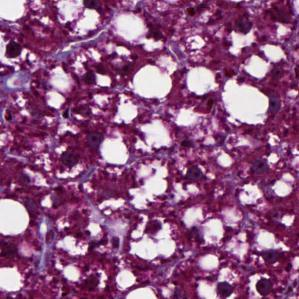steatosis: (222, 78, 271, 124), (132, 67, 172, 99), (1, 198, 29, 237), (187, 65, 216, 95), (98, 137, 129, 165), (0, 263, 26, 296)
